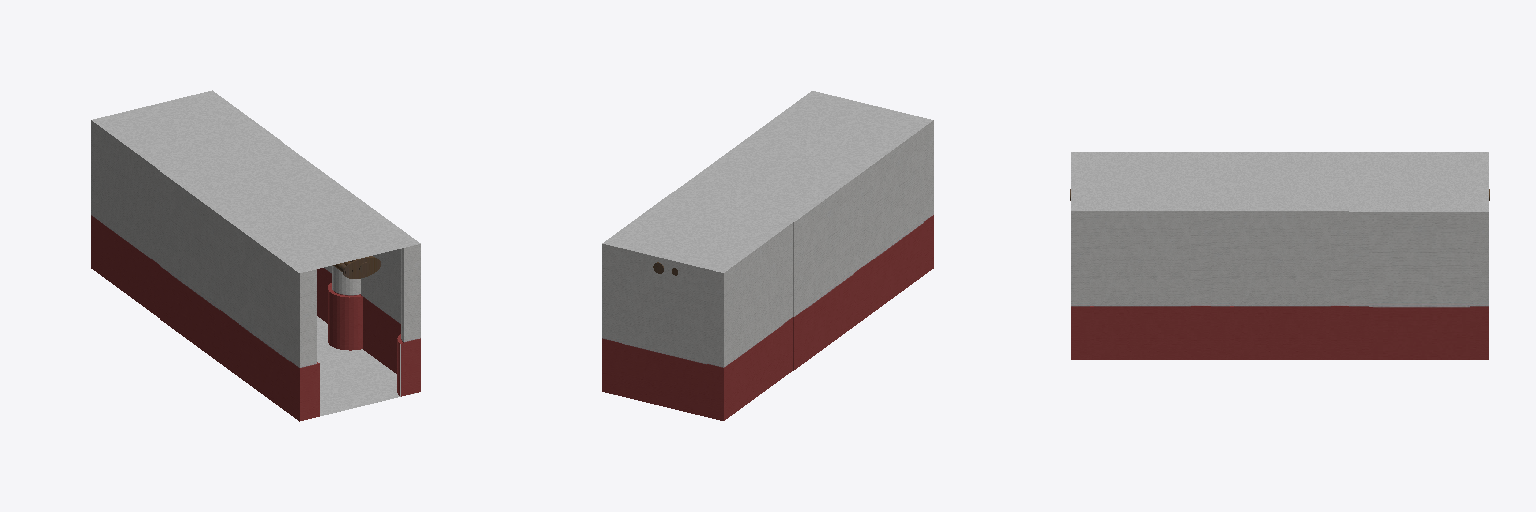
The picture shows the model from 3 angles: view 1: azimuth 30°, elevation 25°; view 2: azimuth 150°, elevation 25°; view 3: azimuth 270°, elevation 25°; orthographic projection.
Parts seen in each view (by area): view 1: Plane.035_Plane.050, Plane.034_Plane.049, Plane.036_Plane.051, Circle.142_Circle.218, Circle.144_Circle.220, Circle.141_Circle.217, Circle.148_Circle.224, Circle.139_Circle.215, Circle.143_Circle.219, Circle.138_Circle.214, Circle.145_Circle.221, Cylinder.023_Cylinder.105; view 2: Plane.036_Plane.051, Plane.035_Plane.050, Plane.034_Plane.049, Circle.148_Circle.224, Circle.146_Circle.222, Circle.139_Circle.215, Circle.142_Circle.218, Circle.138_Circle.214, Circle.143_Circle.219, Circle.145_Circle.221; view 3: Plane.036_Plane.051, Plane.035_Plane.050, Plane.034_Plane.049, Circle.147_Circle.223, Circle.144_Circle.220, Circle.140_Circle.216, Circle.141_Circle.217, Circle.146_Circle.222, Circle.137_Circle.213.
Part boxes in pixels (x1,y1,x2,y2): Plane.035_Plane.050: (230,193,420,415); Plane.034_Plane.049: (160,142,350,362); Plane.036_Plane.051: (92,90,281,312); Circle.142_Circle.218: (290,267,319,421); Circle.144_Circle.220: (397,244,420,396); Circle.141_Circle.217: (330,266,362,350); Circle.148_Circle.224: (91,120,102,276); Circle.139_Circle.215: (160,172,171,327); Circle.143_Circle.219: (229,222,240,377); Circle.138_Circle.214: (220,216,228,369); Circle.145_Circle.221: (151,164,159,317); Cylinder.023_Cylinder.105: (333,256,380,278); Plane.036_Plane.051: (602,192,792,416); Plane.035_Plane.050: (743,91,932,310); Plane.034_Plane.049: (673,142,863,361); Circle.148_Circle.224: (707,266,735,420); Circle.146_Circle.222: (602,244,622,396); Circle.139_Circle.215: (793,216,805,370); Circle.142_Circle.218: (924,120,933,274); Circle.138_Circle.214: (854,172,863,325); Circle.143_Circle.219: (864,165,874,318); Circle.145_Circle.221: (784,223,792,376); Plane.036_Plane.051: (1349,152,1488,359); Plane.035_Plane.050: (1071,152,1210,359); Plane.034_Plane.049: (1211,152,1348,359); Circle.147_Circle.223: (1349,212,1372,359); Circle.144_Circle.220: (1071,211,1093,359); Circle.140_Circle.216: (1210,211,1233,359); Circle.141_Circle.217: (1191,211,1210,359); Circle.146_Circle.222: (1470,212,1488,359); Circle.137_Circle.213: (1331,211,1348,359).
Bounding box in the file's own units: 12.1 × 14.02 × 35.97.
4 materials, 3 textured.